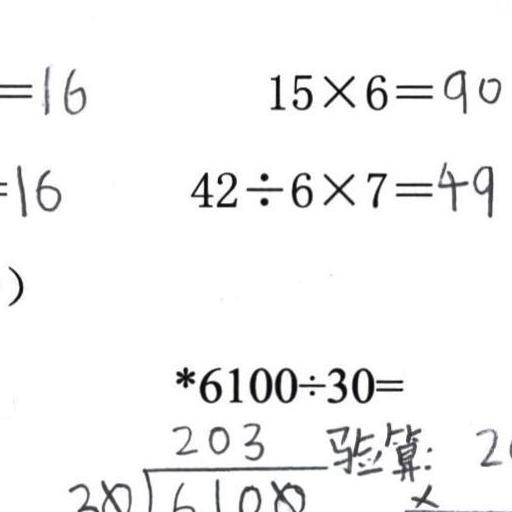ans: (434, 155, 495, 217), (440, 64, 502, 113), (34, 59, 86, 116), (10, 159, 61, 217)
